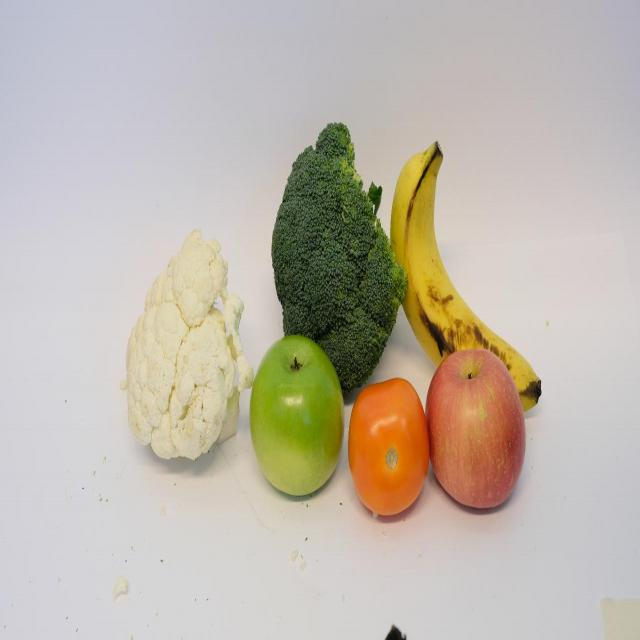apple: (422, 341, 534, 529), (247, 327, 348, 500)
banana: (389, 121, 554, 412)
broccoli: (271, 116, 401, 390)
cauliflower: (118, 238, 245, 456)
tomato: (352, 367, 428, 512)
